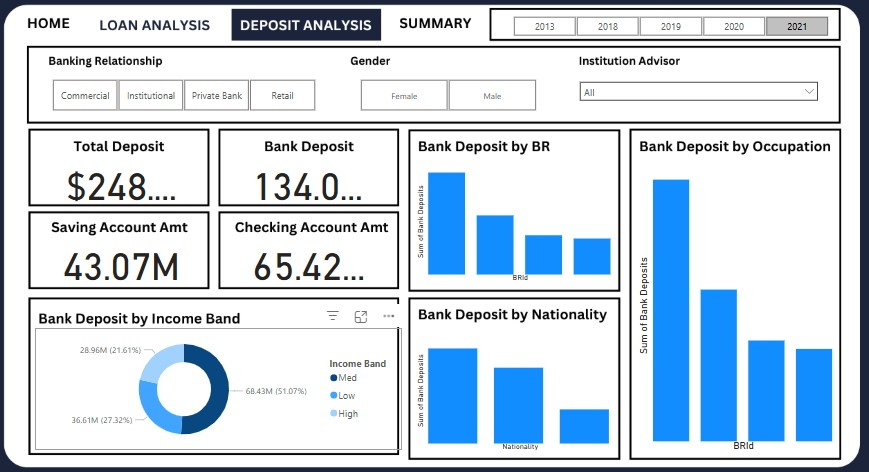

What the dashboard file says about the page in this screenshot:
{"tool":"powerbi","page":{"name":"Deposit Analysis","canvas":[1280,720],"ordinal":2},"visuals":[{"type":"slicer","fields":{"Values":["banking_case customer.Year of Joining"]},"box":[733.3,32.2,504.1,34.9],"z":0},{"type":"actionButton","box":[36.4,31.7,99.7,39.6],"z":1000},{"type":"actionButton","box":[348.2,31.7,221.6,39.6],"z":2000},{"type":"actionButton","box":[587.1,31.7,123.4,39.6],"z":3000},{"type":"card","fields":{"Values":["banking_case customer.Total Deposit"]},"box":[100.9,243.7,179.5,65.5],"z":4000},{"type":"card","fields":{"Values":["Sum(banking_case customer.Bank Deposits)"]},"box":[369.5,243.7,179.5,65.5],"z":5000},{"type":"card","fields":{"Values":["Sum(banking_case customer.Saving Accounts)"]},"box":[100.9,360.4,179.5,65.5],"z":6000},{"type":"card","fields":{"Values":["Sum(banking_case customer.Checking Accounts)"]},"box":[370.8,360.4,179.5,65.5],"z":7000},{"type":"donutChart","fields":{"Category":["banking_case customer.Income Band"],"Y":["Sum(banking_case customer.Bank Deposits)"]},"box":[66.8,488.8,530.7,176.9],"z":8000},{"type":"clusteredColumnChart","fields":{"Category":["banking_case customer.BRId"],"Y":["Sum(banking_case customer.Bank Deposits)"]},"box":[613.3,243.7,293.5,182.1],"z":9000},{"type":"clusteredColumnChart","fields":{"Category":["banking_case customer.Nationality"],"Y":["Sum(banking_case customer.Bank Deposits)"]},"box":[613.3,488.8,293.5,182.1],"z":10000},{"type":"slicer","fields":{"Values":["banking_case customer.BRId"]},"box":[66.8,123.2,428.5,57.7],"z":11000},{"type":"slicer","fields":{"Values":["banking_case customer.GenderId"]},"box":[512.4,123.2,302.7,57.7],"z":12000},{"type":"slicer","fields":{"Values":["banking_case customer.IAId"]},"box":[843.9,123.2,364.3,57.7],"z":13000},{"type":"clusteredColumnChart","fields":{"Category":["banking_case customer.BRId"],"Y":["Sum(banking_case customer.Bank Deposits)"]},"box":[933.7,245.3,292.8,425.7],"z":14000},{"type":"actionButton","box":[136.3,27.5,196.6,40.6],"z":15000}]}

Visuals, with their boxes on the page's 1280x720 design canvas (x1, y1, x2, y2). These are canvas units, not pixel positions in the 869x472 screenshot, which may show the page scaled, cropped or inside an application window:
slicer - banking_case customer.Year of Joining: (733,32,1237,67)
actionButton: (36,32,136,71)
actionButton: (348,32,570,71)
actionButton: (587,32,710,71)
card - banking_case customer.Total Deposit: (101,244,280,309)
card - Sum(banking_case customer.Bank Deposits): (370,244,549,309)
card - Sum(banking_case customer.Saving Accounts): (101,360,280,426)
card - Sum(banking_case customer.Checking Accounts): (371,360,550,426)
donutChart - banking_case customer.Income Band x Sum(banking_case customer.Bank Deposits): (67,489,598,666)
clusteredColumnChart - banking_case customer.BRId x Sum(banking_case customer.Bank Deposits): (613,244,907,426)
clusteredColumnChart - banking_case customer.Nationality x Sum(banking_case customer.Bank Deposits): (613,489,907,671)
slicer - banking_case customer.BRId: (67,123,495,181)
slicer - banking_case customer.GenderId: (512,123,815,181)
slicer - banking_case customer.IAId: (844,123,1208,181)
clusteredColumnChart - banking_case customer.BRId x Sum(banking_case customer.Bank Deposits): (934,245,1226,671)
actionButton: (136,28,333,68)
